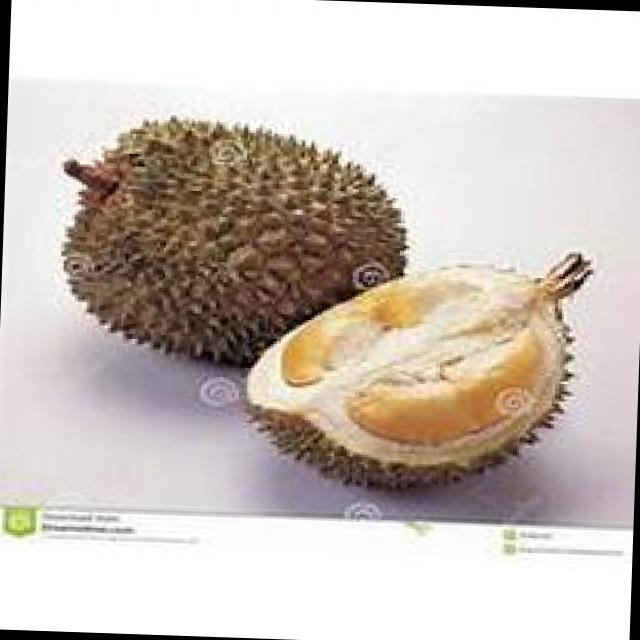fruit: (31, 73, 433, 406), (252, 200, 610, 530)
